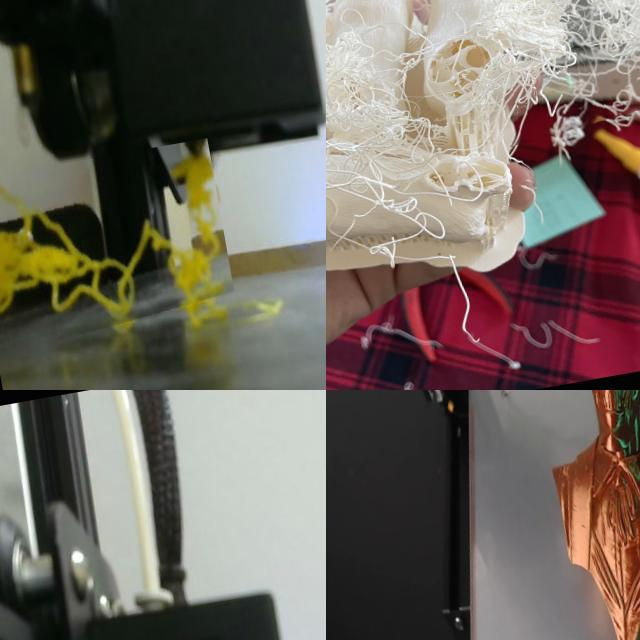spaghetti: (326, 0, 490, 292), (0, 159, 223, 322), (434, 0, 640, 155)
